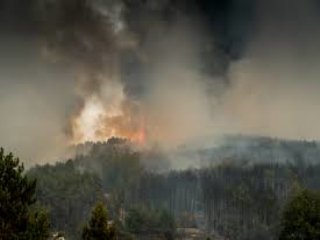fire: (125, 123, 153, 150)
smoke: (145, 29, 244, 175)
